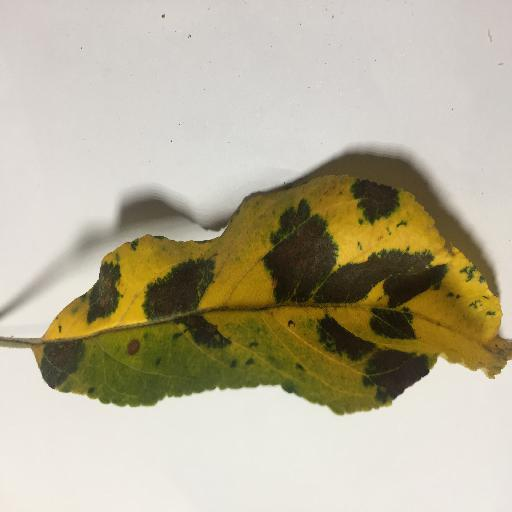Brown_Spot: (253, 191, 452, 410), (138, 249, 229, 359), (40, 340, 89, 383), (83, 268, 124, 318)
